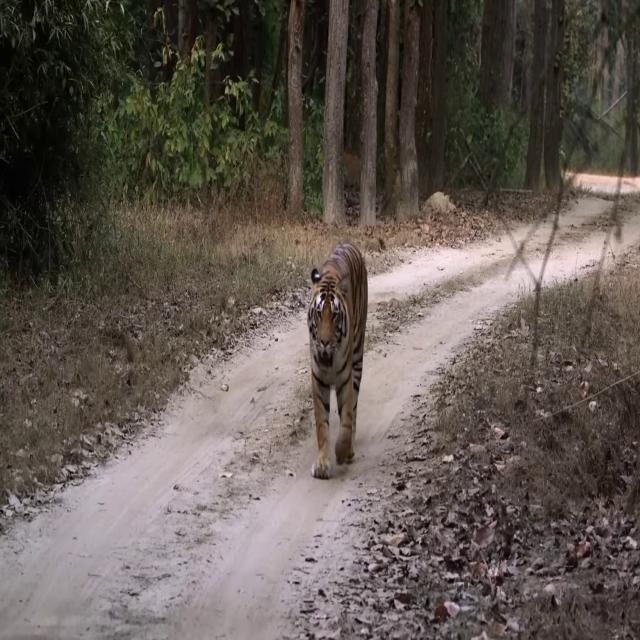tiger: (306, 242, 368, 479)
